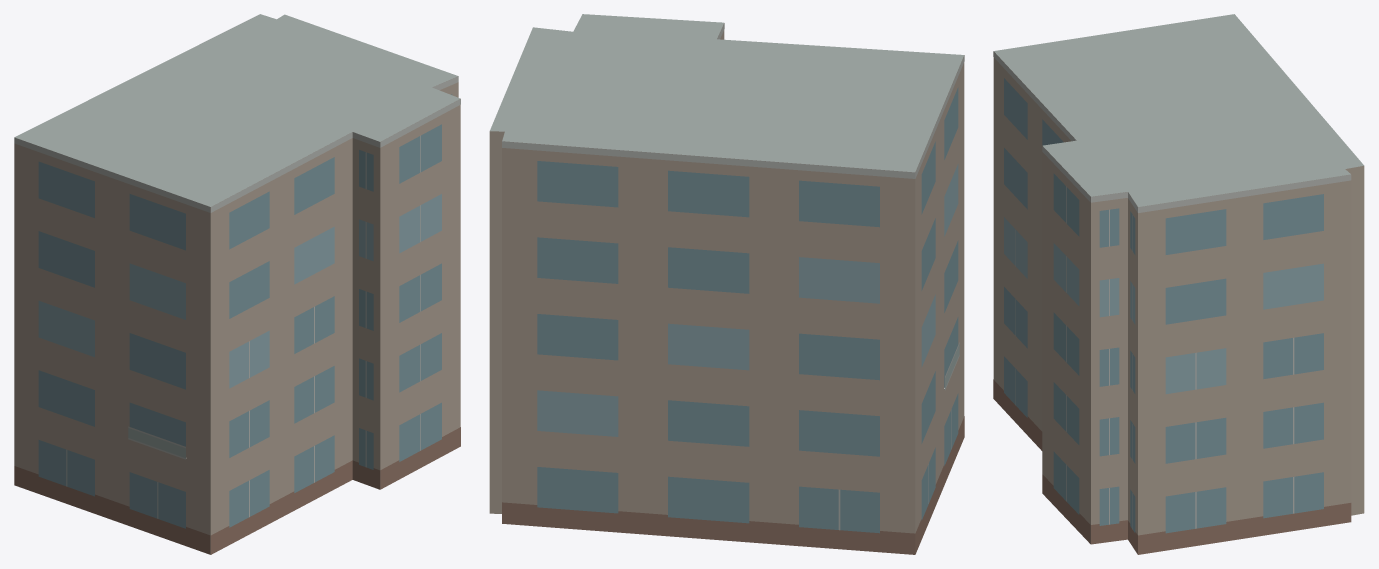
File: survey-upis-32949360.glb
The picture shows the model from 3 angles, left to right: view 1: azimuth 30°, elevation 25°; view 2: azimuth 150°, elevation 25°; view 3: azimuth 270°, elevation 25°; orthographic projection. The views are drawn at different scales.
Visible parts, largest first — view 1: survey-upis-32949360.tmp; view 2: survey-upis-32949360.tmp; view 3: survey-upis-32949360.tmp.
Part boxes in pixels (x1,y1,x2,y2): survey-upis-32949360.tmp: (14, 14, 460, 554); survey-upis-32949360.tmp: (489, 14, 964, 554); survey-upis-32949360.tmp: (993, 14, 1364, 554).
Size of the model in its own units: 16.81 by 14.1 by 13.64.
